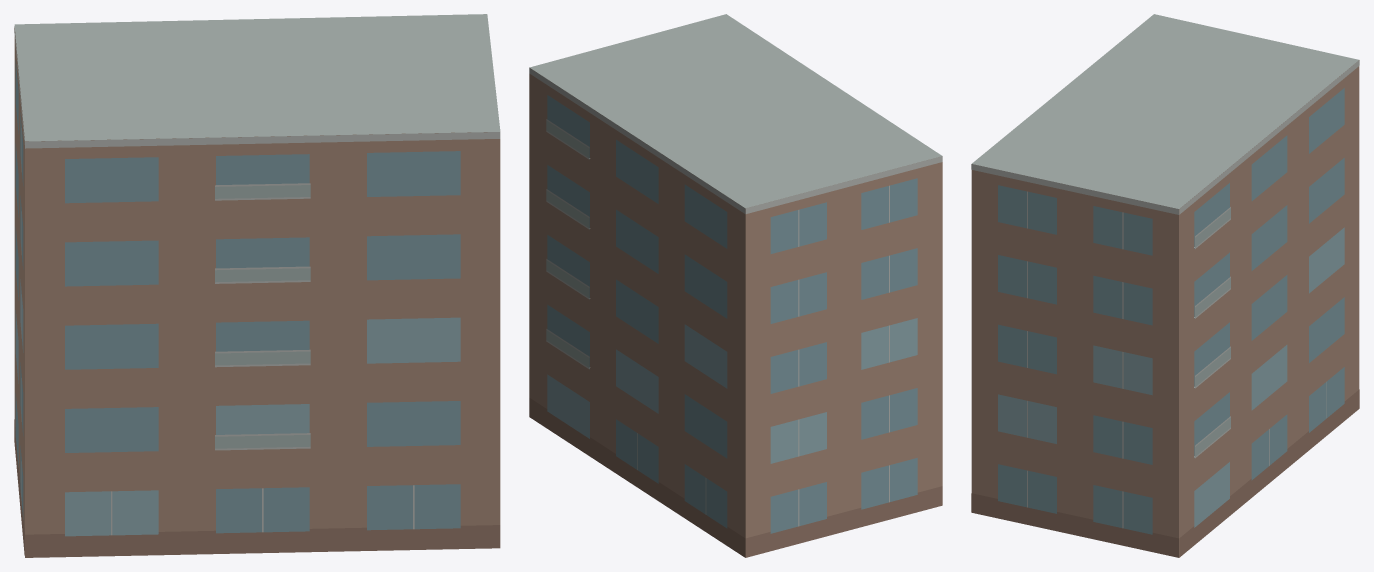
Rendered from survey-upis-32886046.glb.
3 renders of one model, left to right at view 1: azimuth 30°, elevation 25°; view 2: azimuth 150°, elevation 25°; view 3: azimuth 270°, elevation 25°, orthographic. The views are drawn at different scales.
Visible parts, largest first — view 1: survey-upis-32886046.tmp; view 2: survey-upis-32886046.tmp; view 3: survey-upis-32886046.tmp.
Part boxes in pixels (box(x1,y1,x2,y2)): survey-upis-32886046.tmp: box(14, 14, 500, 557); survey-upis-32886046.tmp: box(529, 14, 942, 557); survey-upis-32886046.tmp: box(971, 14, 1359, 557).
Bounding box in the file's own units: 17.28 × 14.4 × 14.53.
